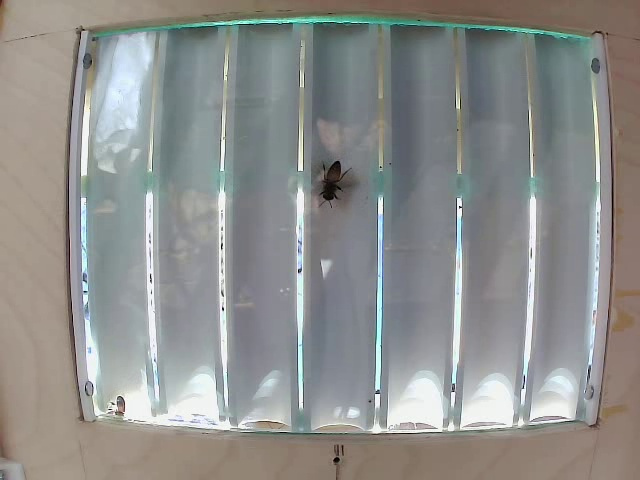bee: (304, 141, 354, 224)
